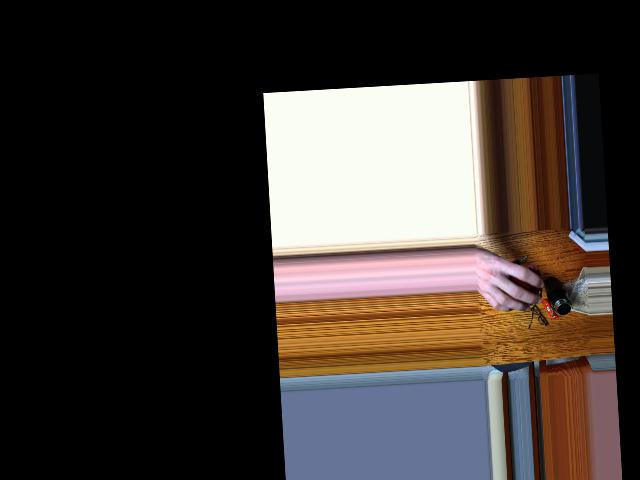onion: (501, 266, 534, 306)
